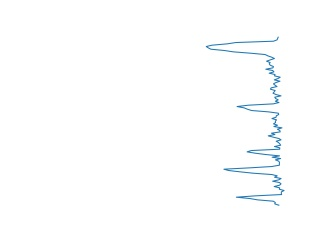distalBar: (202, 33, 286, 89)
interdistributaryEstuary: (232, 87, 287, 142)
underwaterNaturalLevee: (223, 141, 288, 209)
